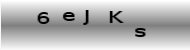6: (37, 11, 51, 25)
J: (82, 9, 90, 26)
K: (109, 9, 124, 25)
e: (62, 11, 76, 23)
s: (134, 27, 147, 38)
